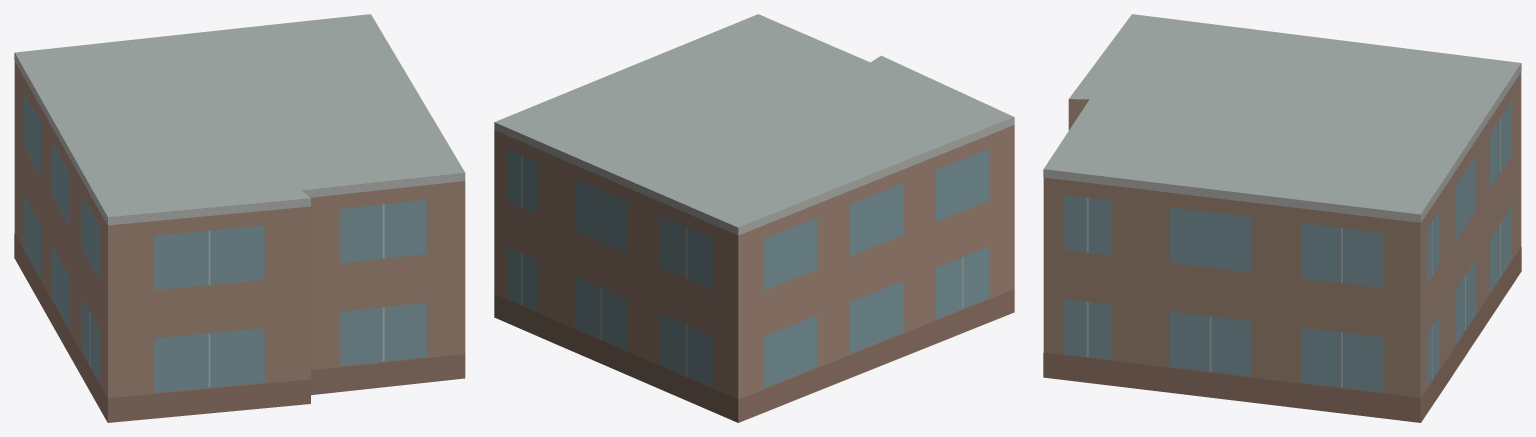
File: survey-upis-32938791.glb
3 views of the same model, side by side, from view 1: azimuth 30°, elevation 25°; view 2: azimuth 150°, elevation 25°; view 3: azimuth 270°, elevation 25° (orthographic). The views are drawn at different scales.
Visible parts, largest first — view 1: survey-upis-32938791.tmp; view 2: survey-upis-32938791.tmp; view 3: survey-upis-32938791.tmp.
Part boxes in pixels (bbox=[...]): survey-upis-32938791.tmp: bbox=[14, 14, 465, 422]; survey-upis-32938791.tmp: bbox=[494, 14, 1014, 422]; survey-upis-32938791.tmp: bbox=[1043, 14, 1521, 422].
Size of the model in its own units: 12.6 by 6.1 by 12.7.
